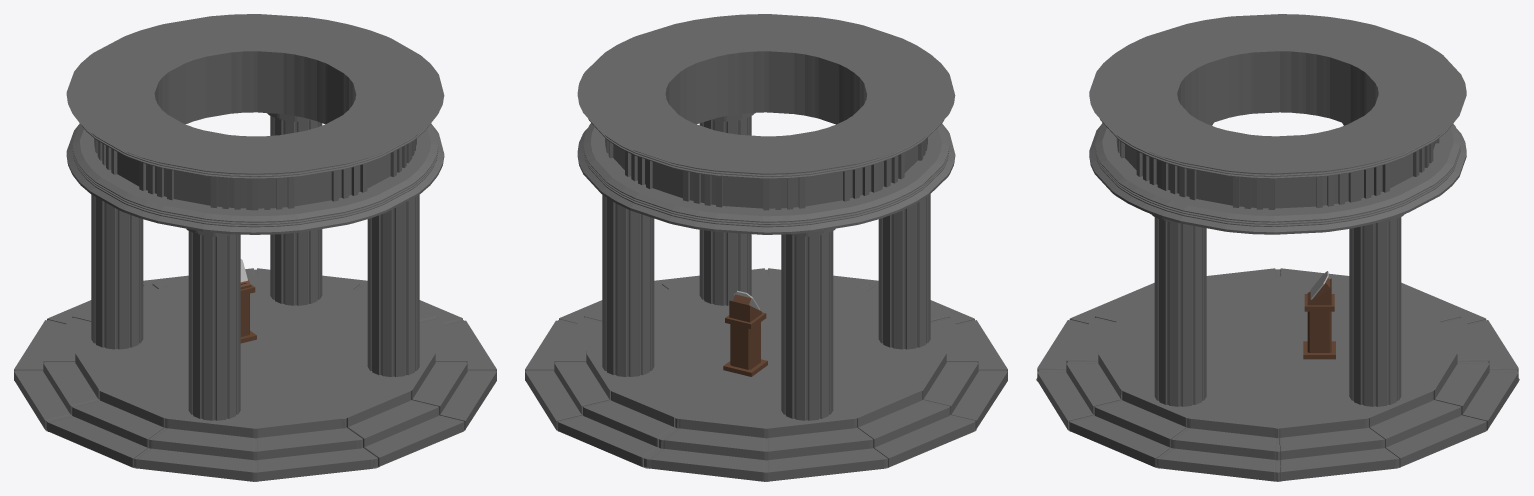
The model's file is NEW_start temple.fbx.
3 renders of one model, left to right at view 1: azimuth 30°, elevation 25°; view 2: azimuth 150°, elevation 25°; view 3: azimuth 270°, elevation 25°, orthographic.
Parts seen in each view (by area): view 1: Cube, platform, Pillars, lectern; view 2: Cube, platform, Pillars, lectern; view 3: Cube, platform, Pillars, lectern.
Boxes of the visible parts, bbox=[...] form: Cube: bbox=[66, 14, 444, 234]; platform: bbox=[14, 268, 496, 481]; Pillars: bbox=[91, 113, 419, 420]; lectern: bbox=[240, 278, 256, 343]; Cube: bbox=[577, 14, 955, 234]; platform: bbox=[525, 268, 1007, 481]; Pillars: bbox=[602, 112, 930, 420]; lectern: bbox=[723, 294, 767, 376]; Cube: bbox=[1089, 14, 1466, 234]; platform: bbox=[1036, 268, 1519, 481]; Pillars: bbox=[1150, 122, 1405, 406]; lectern: bbox=[1303, 278, 1335, 359].
Size of the model in its own units: 1583 by 1036 by 1583.
